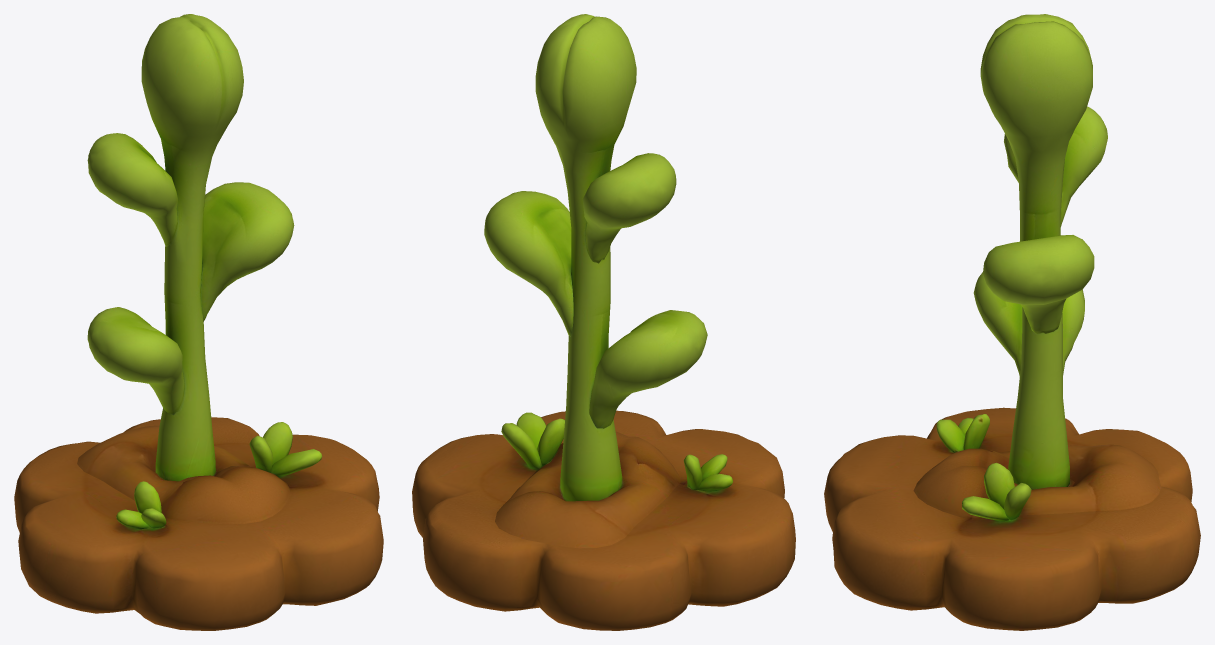
Rendered from daisy_s2.glb.
3 renders of one model, left to right at view 1: azimuth 30°, elevation 25°; view 2: azimuth 150°, elevation 25°; view 3: azimuth 270°, elevation 25°, orthographic. The views are drawn at different scales.
Parts seen in each view (by area): view 1: tripo_node_6dd3e6c0-8e81-4493-b54c-2c935adc35c4; view 2: tripo_node_6dd3e6c0-8e81-4493-b54c-2c935adc35c4; view 3: tripo_node_6dd3e6c0-8e81-4493-b54c-2c935adc35c4.
Boxes of the visible parts, x1,y1,x2,y2 form: tripo_node_6dd3e6c0-8e81-4493-b54c-2c935adc35c4: (14, 14, 383, 630); tripo_node_6dd3e6c0-8e81-4493-b54c-2c935adc35c4: (412, 14, 795, 630); tripo_node_6dd3e6c0-8e81-4493-b54c-2c935adc35c4: (824, 14, 1200, 630).
Size of the model in its own units: 0.6855 by 0.998 by 0.6348.
1 material, 1 textured.
